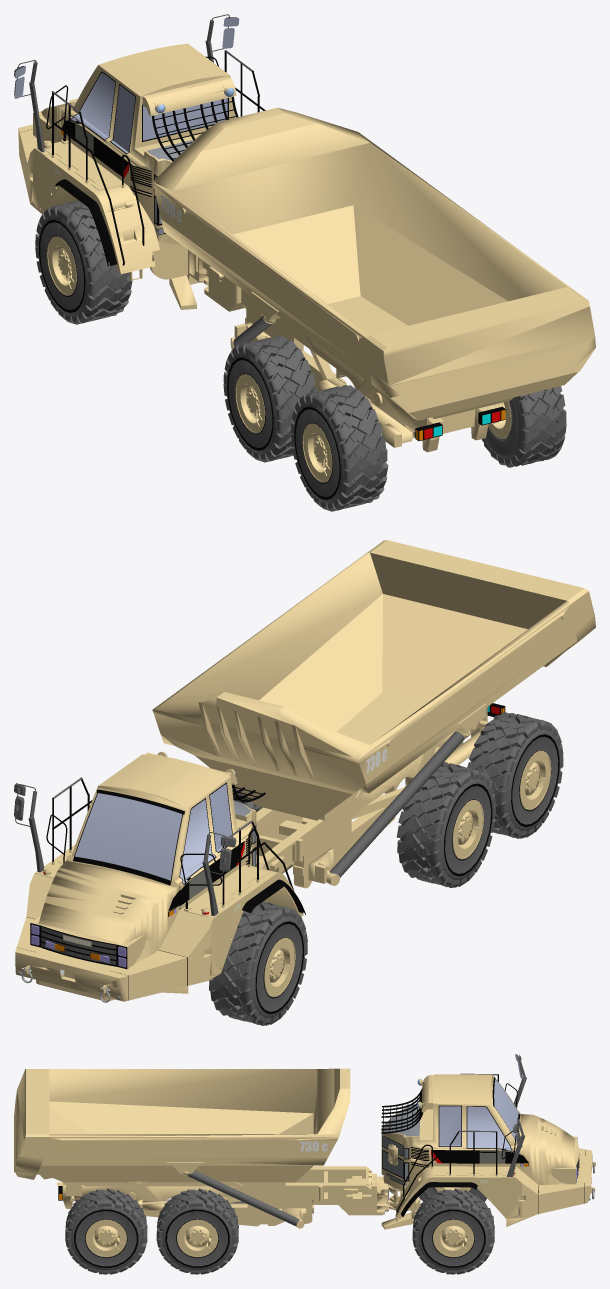
File: DumpTruck.fbx
3 views of the same model, one above another, from view 1: azimuth 30°, elevation 25°; view 2: azimuth 150°, elevation 25°; view 3: azimuth 270°, elevation 25° (orthographic). The views are drawn at different scales.
Visible parts, largest first — view 1: Back, Front, Tire_BL, Tire_ML, Tire_FL, Tire_BR; view 2: Back, Front, Tire_ML, Tire_FL, Tire_BL; view 3: Back, Front, Tire_BR, Tire_FR, Tire_MR, Tire_FL.
Boxes of the visible parts, x1,y1,x2,y2 form: Back: (152, 107, 595, 452); Front: (14, 14, 265, 309); Tire_BL: (290, 385, 388, 511); Tire_ML: (223, 335, 317, 462); Tire_FL: (35, 200, 132, 324); Tire_BR: (481, 386, 566, 467); Back: (152, 540, 595, 888); Front: (14, 751, 305, 1002); Tire_ML: (396, 762, 496, 887); Tire_FL: (209, 901, 307, 1025); Tire_BL: (467, 712, 563, 838); Back: (14, 1068, 388, 1228); Front: (381, 1054, 595, 1229); Tire_BR: (65, 1188, 147, 1274); Tire_FR: (412, 1188, 494, 1274); Tire_MR: (156, 1188, 238, 1274); Tire_FL: (419, 1187, 486, 1201).
Size of the model in its own units: 434 by 435 by 1434.
